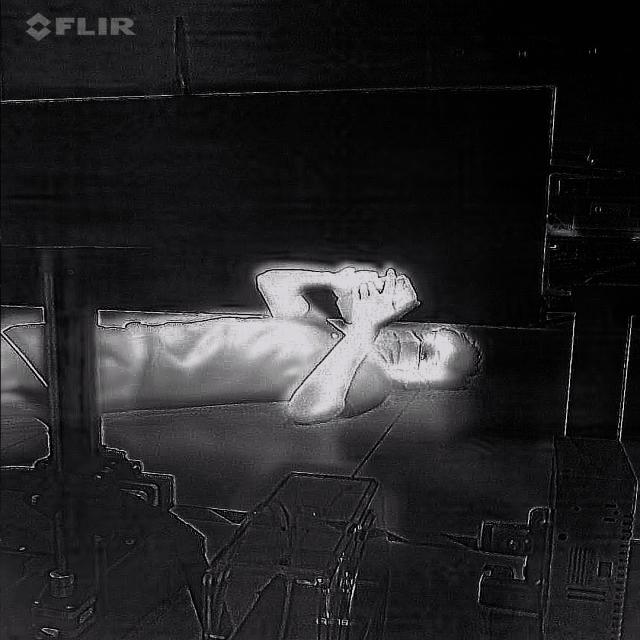Victim: (0, 262, 487, 432)
